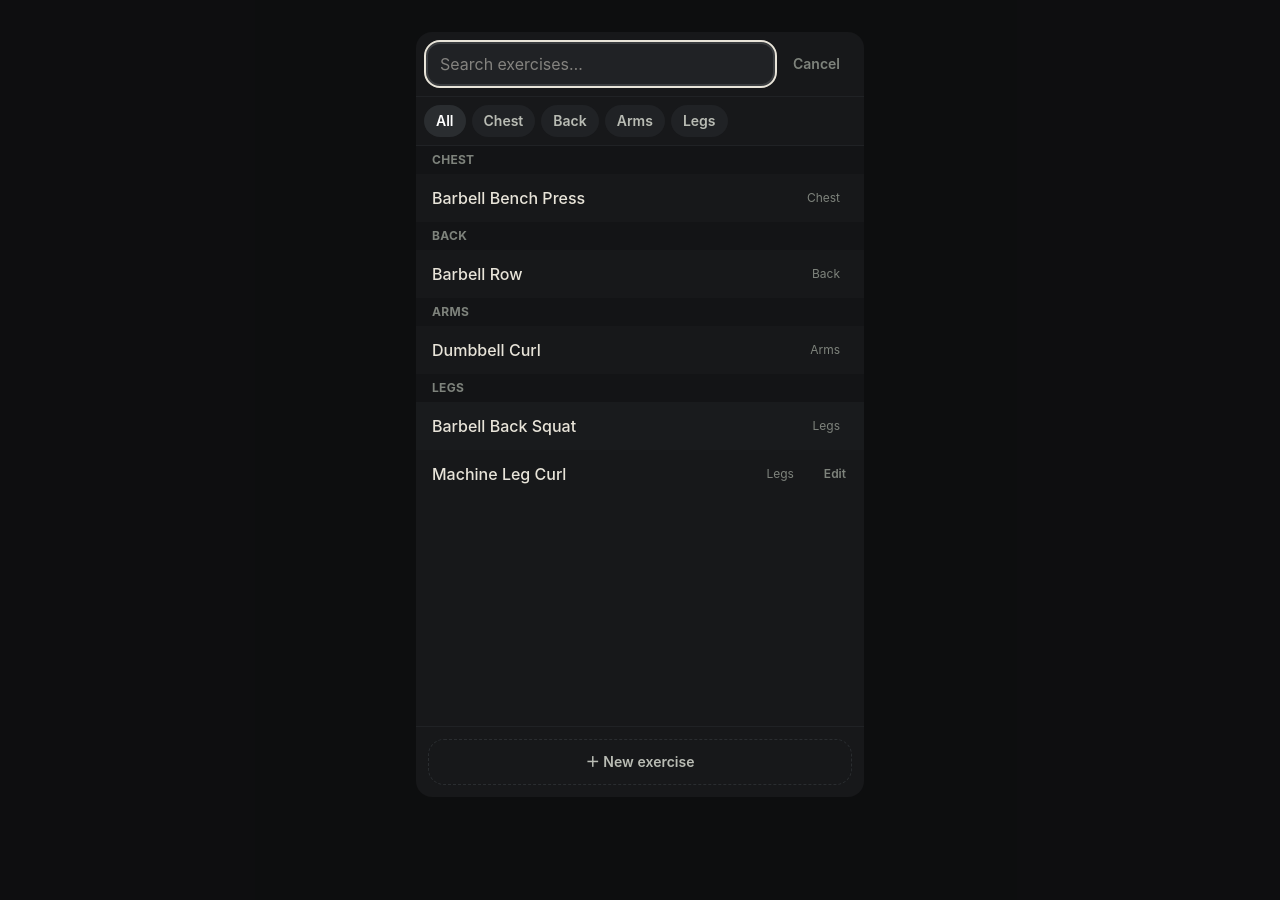
Scenario: ExercisePicker › shows an empty state when nothing matches
Type "zzzzz nonsense" into the search field labelled "Search exercises…" at {"x": 600, "y": 64}, box [428, 44, 773, 84]
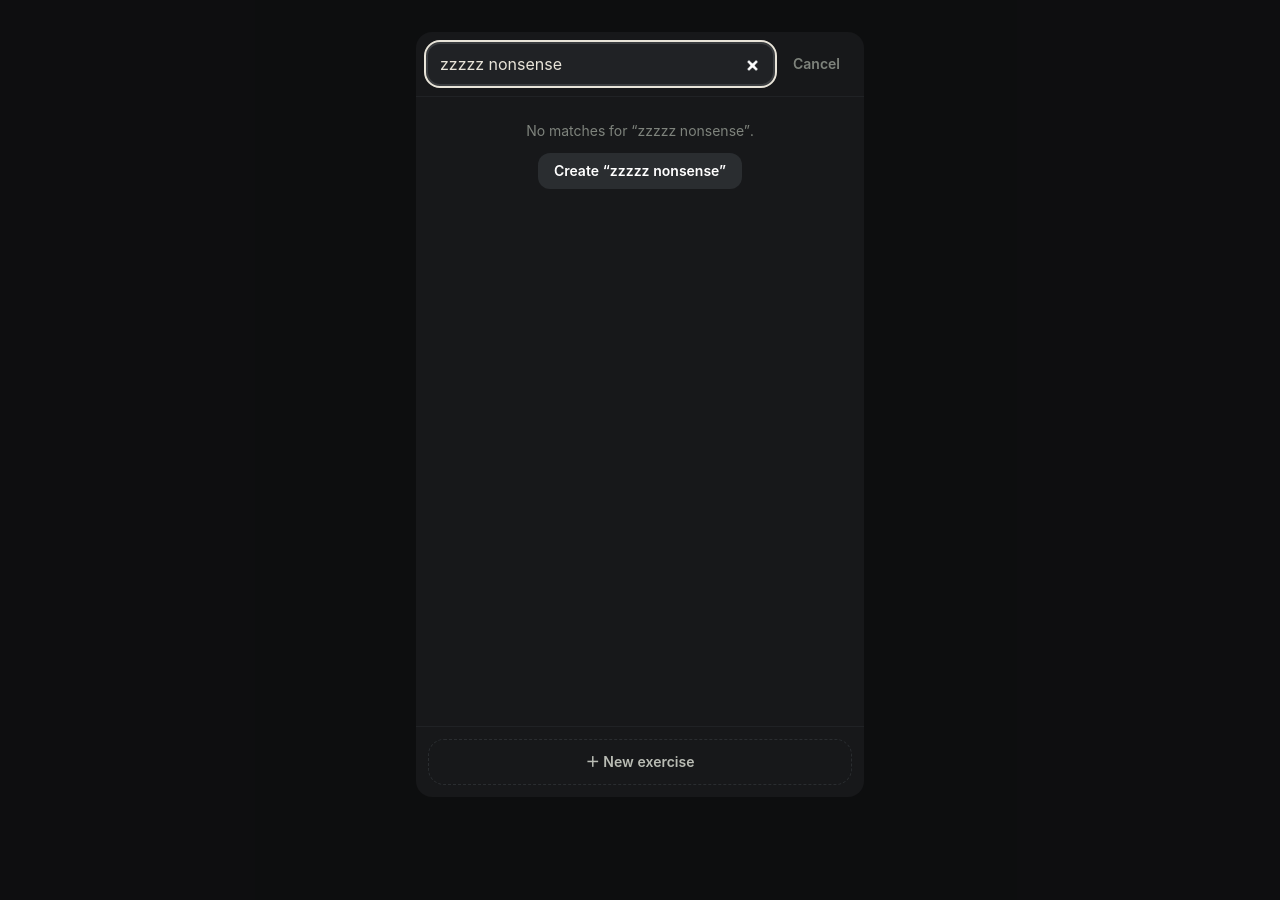
Expected: the text "No matches for “zzzzz nonsense”." is shown, [526, 121, 754, 141]
